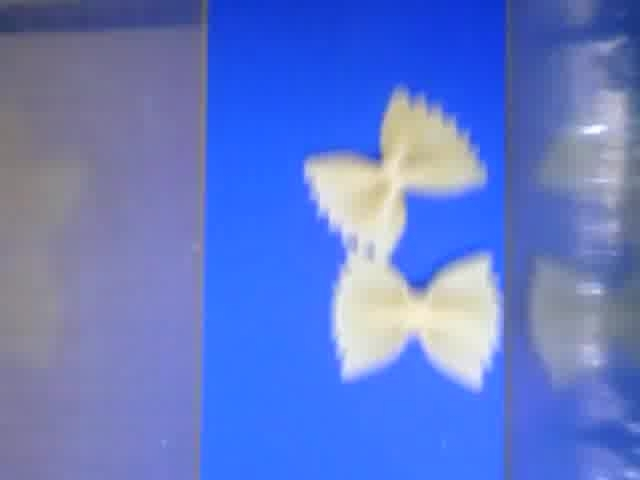farfalle: (302, 85, 487, 260), (330, 251, 499, 388)
